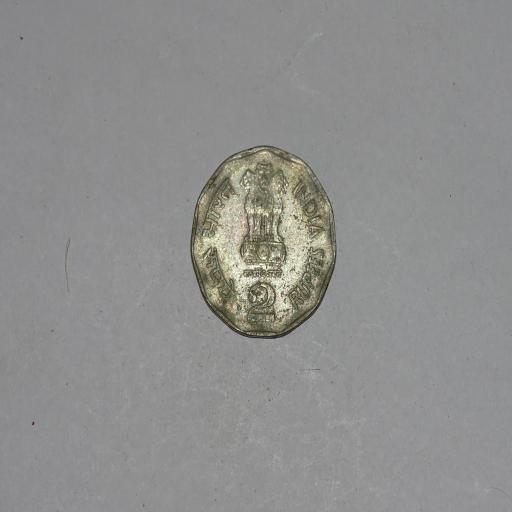rupee2: (188, 145, 339, 338)
